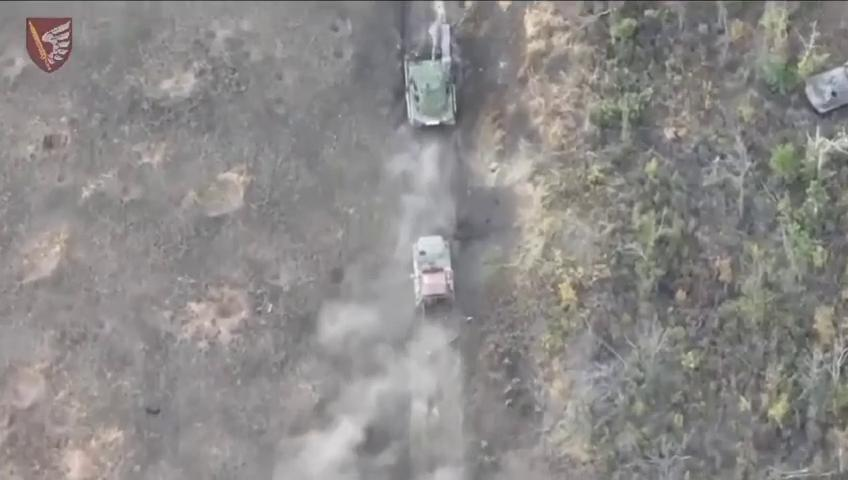tank: (402, 26, 467, 134), (410, 230, 460, 321), (800, 52, 848, 114)
